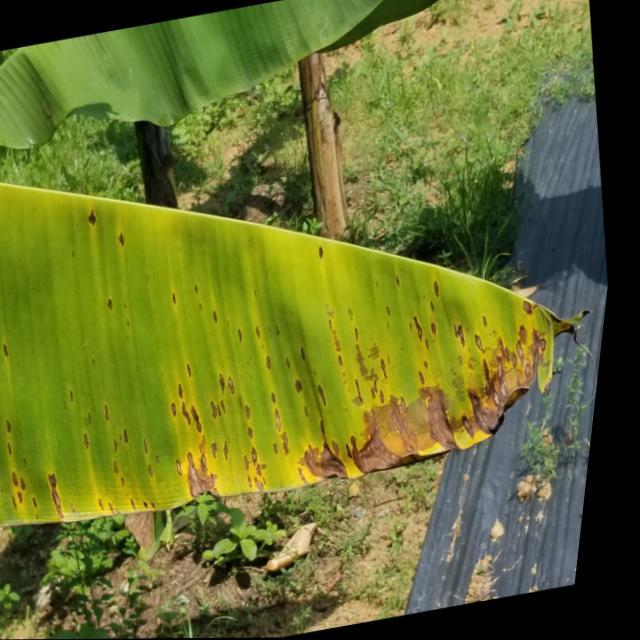Early_rust: (0, 191, 571, 513)
